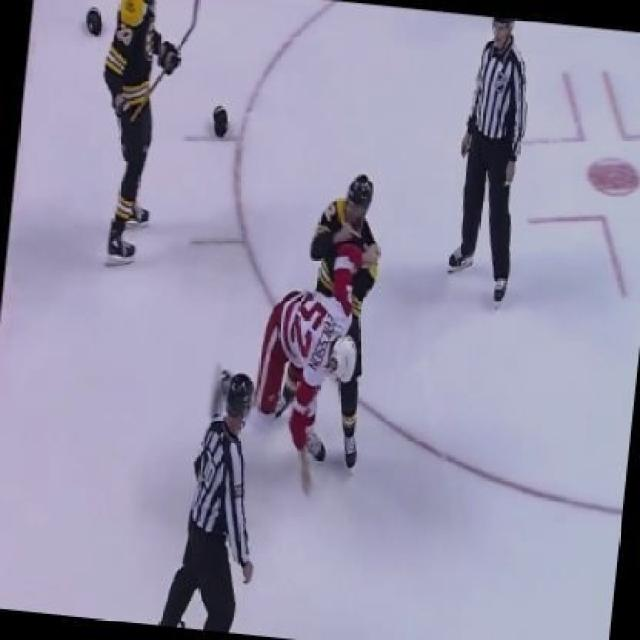fight: (253, 172, 382, 493)
non-fight: (444, 2, 529, 308), (158, 376, 252, 640), (98, 0, 184, 260)
